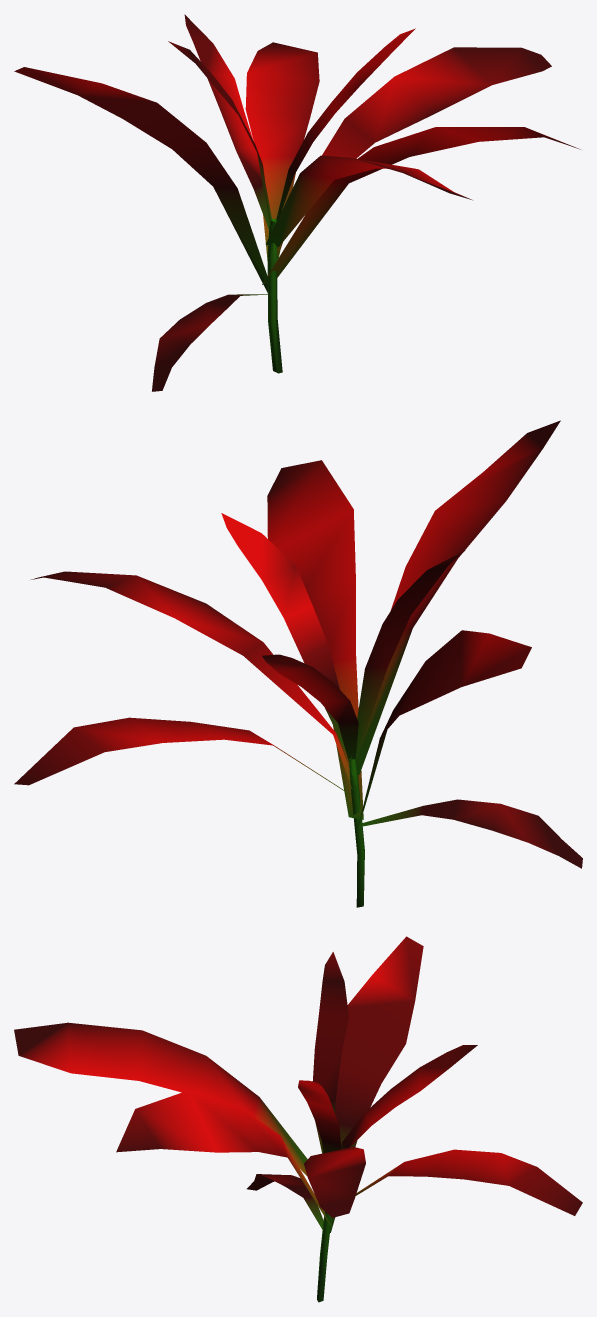
Rendered from Var9_LOD2.fbx.
3 views of the same model, one above another, from view 1: azimuth 30°, elevation 25°; view 2: azimuth 150°, elevation 25°; view 3: azimuth 270°, elevation 25° (orthographic). The views are drawn at different scales.
Parts seen in each view (by area): view 1: _84fb_Var9_LOD2; view 2: _84fb_Var9_LOD2; view 3: _84fb_Var9_LOD2.
Part boxes in pixels (x1,y1,x2,y2): _84fb_Var9_LOD2: (14, 14, 580, 391); _84fb_Var9_LOD2: (14, 420, 582, 907); _84fb_Var9_LOD2: (14, 936, 582, 1302).
Size of the model in its own units: 38.01 by 26.28 by 44.3.
